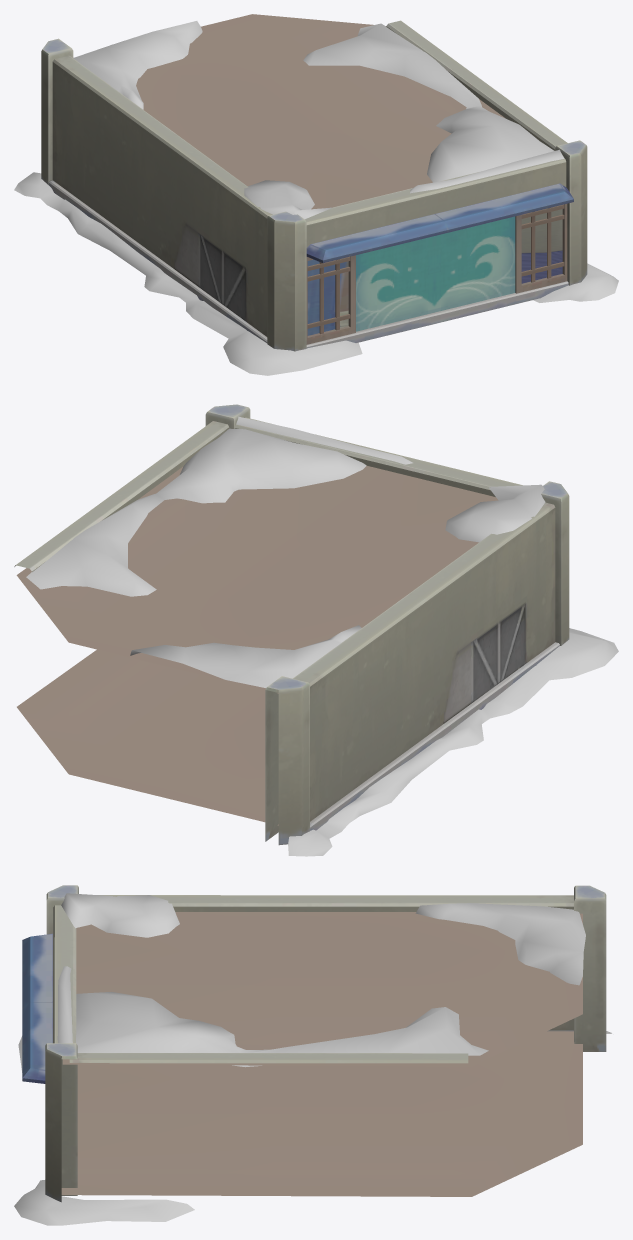
Rendered from pref_sm_city_shop06_snow_lv3.fbx.
The picture shows the model from 3 angles, top to bottom: view 1: azimuth 30°, elevation 25°; view 2: azimuth 150°, elevation 25°; view 3: azimuth 270°, elevation 25°; orthographic projection. The views are drawn at different scales.
Parts seen in each view (by area): view 1: sm_city_shop06_snow_lv3, sm_city_shop06b_snow_lv3; view 2: sm_city_shop06_snow_lv3, sm_city_shop06b_snow_lv3; view 3: sm_city_shop06_snow_lv3, sm_city_shop06b_snow_lv3.
Part boxes in pixels (x1,y1,x2,y2): sm_city_shop06_snow_lv3: (41,14,587,351); sm_city_shop06b_snow_lv3: (14,21,618,375); sm_city_shop06_snow_lv3: (14,404,569,845); sm_city_shop06b_snow_lv3: (26,416,618,856); sm_city_shop06_snow_lv3: (22,885,606,1202); sm_city_shop06b_snow_lv3: (14,893,611,1225).
Size of the model in its own units: 17.46 by 6.29 by 21.58.
